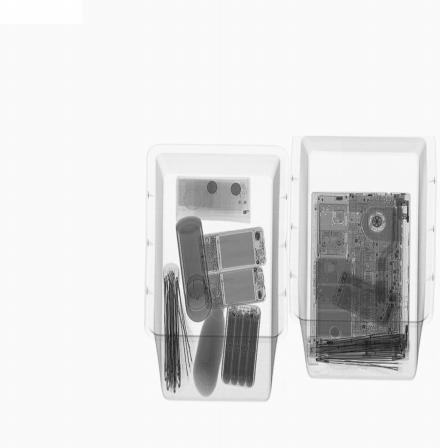Powerbank: (220, 303, 260, 386)
